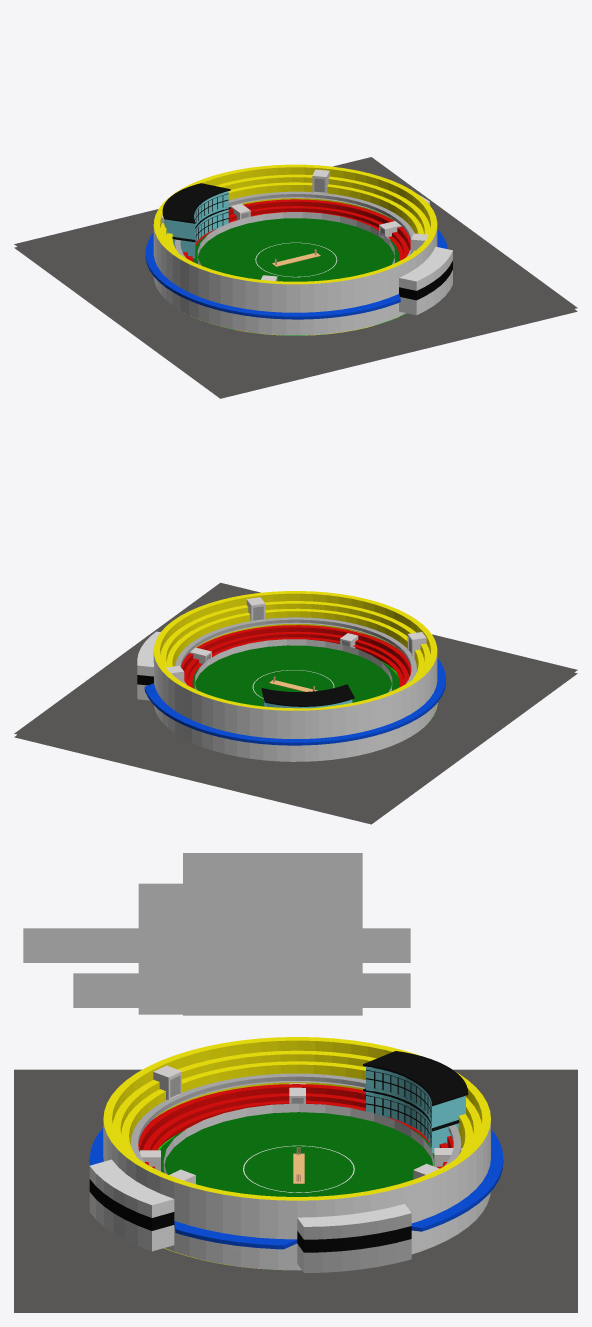
Rendered from cricket_stadium.glb.
3 views of the same model, one above another, from view 1: azimuth 30°, elevation 25°; view 2: azimuth 150°, elevation 25°; view 3: azimuth 270°, elevation 25° (orthographic). The views are drawn at different scales.
Visible parts, largest first — view 1: Stadium; view 2: Stadium; view 3: Stadium, playerImageBg, playerImage.
Part boxes in pixels (x1,y1,x2,y2): Stadium: (14,157,577,398); Stadium: (14,582,577,824); Stadium: (14,1037,577,1312); playerImageBg: (23,883,410,1014); playerImage: (183,853,362,1015).
Bounding box in the file's own units: 24.01 × 15.93 × 24.01.
